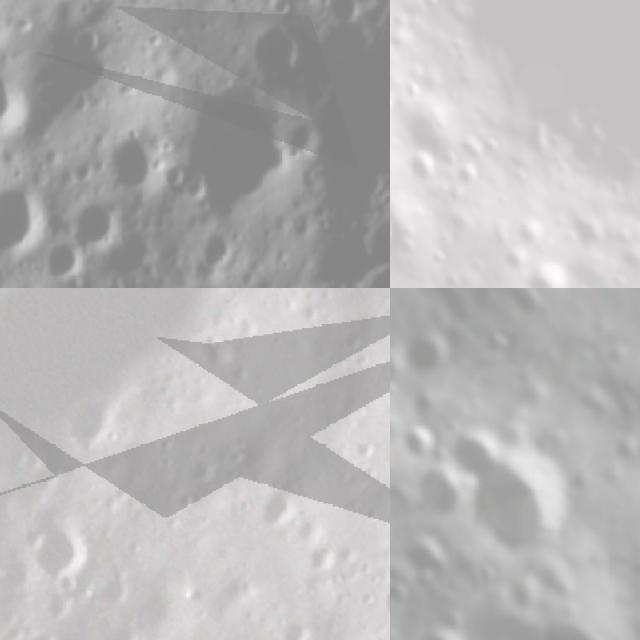crater: (456, 440, 590, 582), (175, 80, 289, 209), (9, 498, 107, 594), (390, 83, 471, 180), (443, 578, 566, 640), (50, 386, 135, 470), (390, 311, 465, 393), (96, 118, 164, 198), (434, 418, 510, 489), (405, 459, 476, 534), (243, 479, 315, 551), (522, 598, 631, 640), (395, 526, 456, 592), (519, 552, 585, 613), (0, 178, 45, 258), (175, 442, 235, 502), (244, 23, 309, 77), (560, 200, 617, 261), (483, 409, 538, 464), (100, 222, 156, 276), (392, 417, 446, 471), (72, 192, 125, 246), (408, 604, 482, 640), (183, 223, 234, 274), (283, 112, 330, 164), (518, 116, 562, 170), (398, 144, 446, 191), (518, 256, 587, 288), (0, 65, 33, 131), (44, 234, 90, 280), (266, 607, 325, 640), (601, 428, 640, 476), (504, 288, 552, 325), (507, 211, 547, 253), (54, 263, 117, 288), (372, 562, 390, 640), (452, 158, 487, 197), (327, 0, 368, 30), (390, 569, 416, 615), (476, 127, 509, 163), (14, 619, 69, 640), (496, 243, 529, 277), (606, 262, 632, 288), (334, 288, 373, 298), (632, 163, 640, 207)
